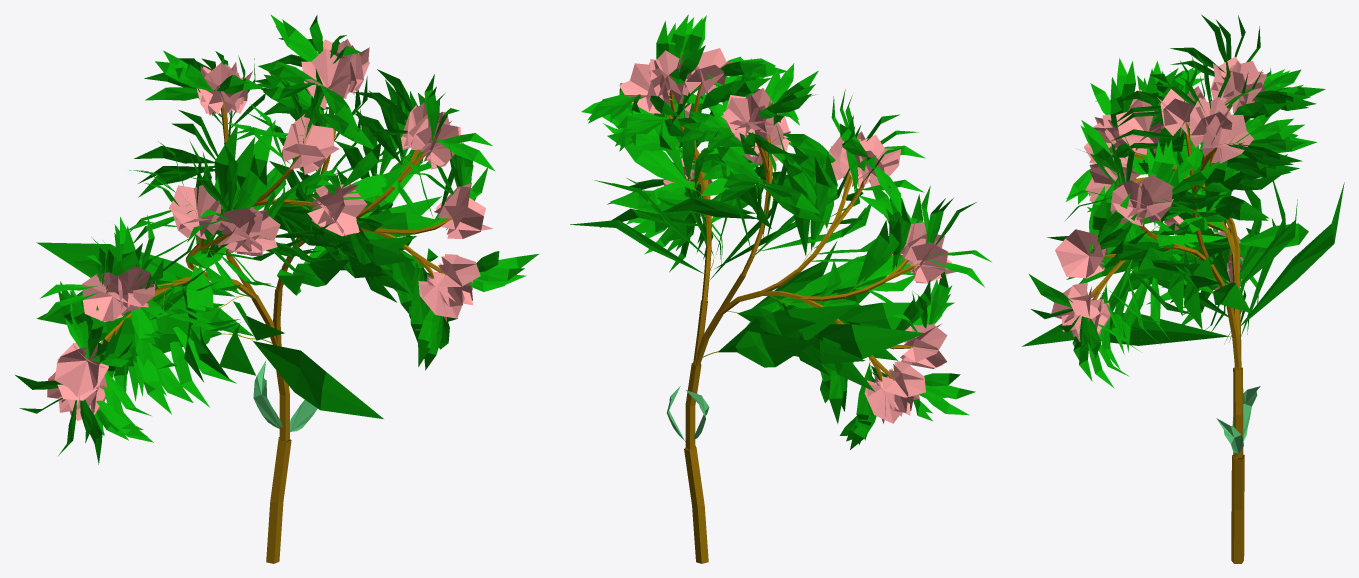
3 views of the same model, side by side, from view 1: azimuth 30°, elevation 25°; view 2: azimuth 150°, elevation 25°; view 3: azimuth 270°, elevation 25° (orthographic). The views are drawn at different scales.
Parts seen in each view (by area): view 1: 1coral-li.002; view 2: 1coral-li.002; view 3: 1coral-li.002.
Boxes of the visible parts, <box> form: 1coral-li.002: <box>15,14,539,563</box>; 1coral-li.002: <box>570,14,991,563</box>; 1coral-li.002: <box>1022,14,1344,563</box>.
Size of the model in its own units: 5.39 by 6.46 by 3.62.
